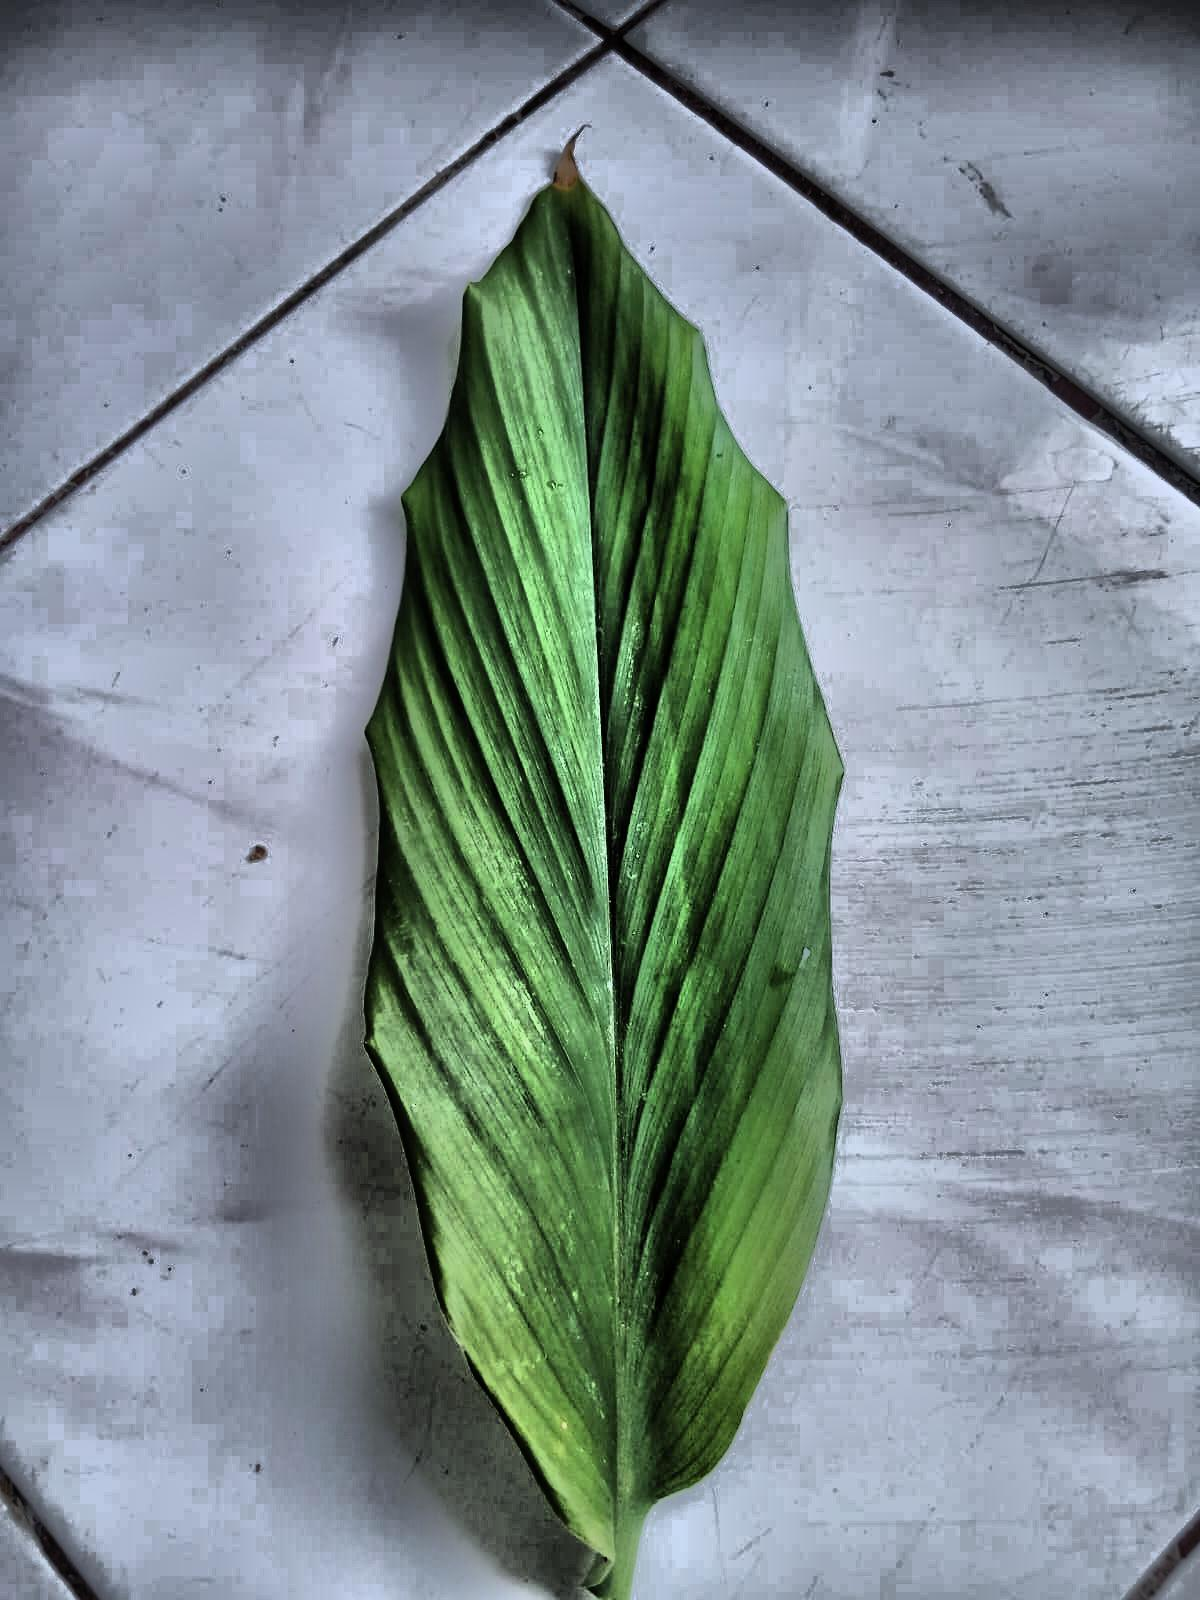daun kunyit: (366, 154, 842, 1599)
